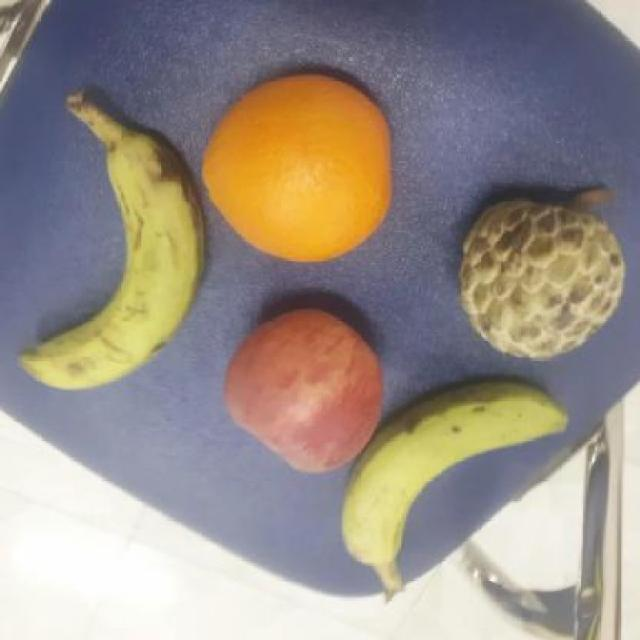apple: (215, 306, 387, 480)
banana: (9, 128, 212, 397), (339, 378, 575, 572)
oren: (198, 66, 398, 269)
sugar apple: (449, 178, 631, 364)
